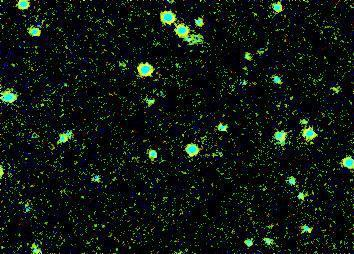star: (316, 75, 346, 105)
